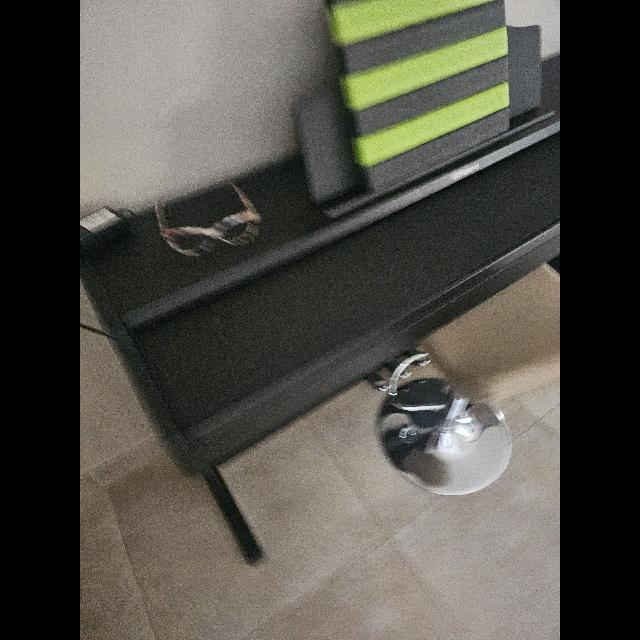glasses: (154, 183, 262, 257)
